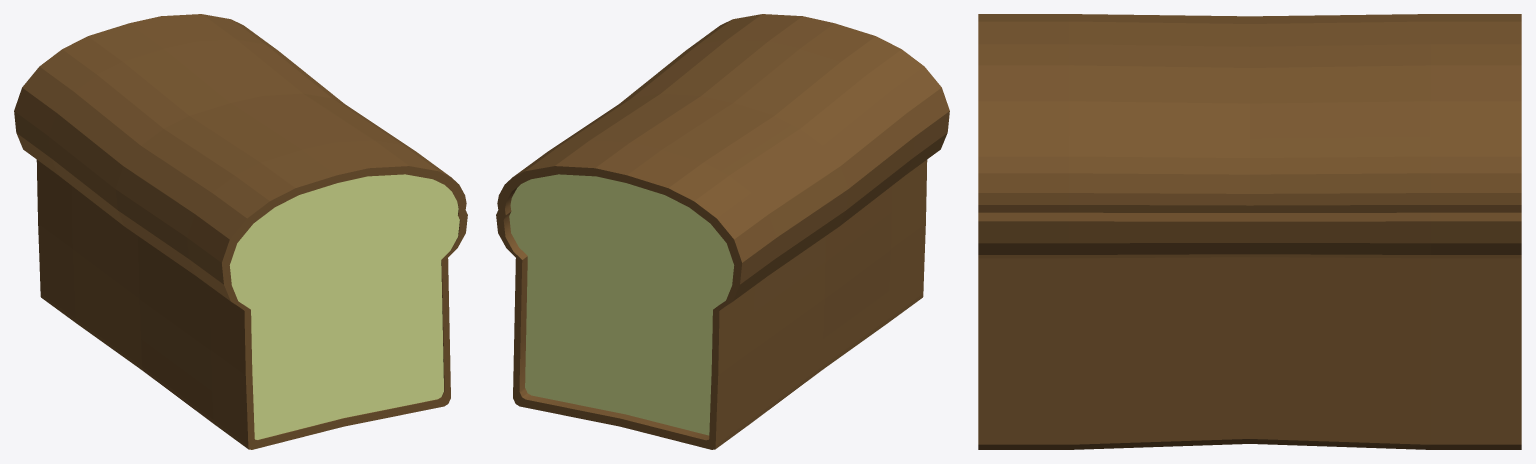
File: bread.glb
3 renders of one model, left to right at view 1: azimuth 30°, elevation 25°; view 2: azimuth 150°, elevation 25°; view 3: azimuth 270°, elevation 25°, orthographic. The views are drawn at different scales.
Visible parts, largest first — view 1: Object002, Object001; view 2: Object002, Object001; view 3: Object002.
Boxes of the visible parts, left/top/right/bottom form: Object002: left=14, top=14, right=467, bottom=449; Object001: left=229, top=174, right=459, bottom=439; Object002: left=496, top=14, right=949, bottom=449; Object001: left=509, top=174, right=734, bottom=435; Object002: left=978, top=14, right=1521, bottom=449.
Size of the model in its own units: 0.0241 by 0.0238 by 0.0348.
